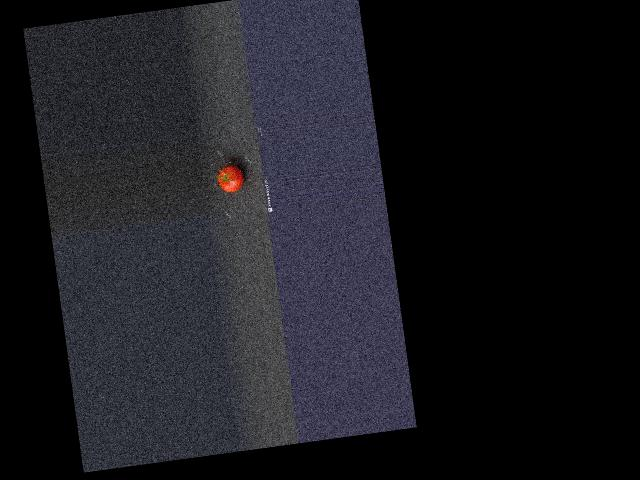tomato: (216, 163, 244, 193)
